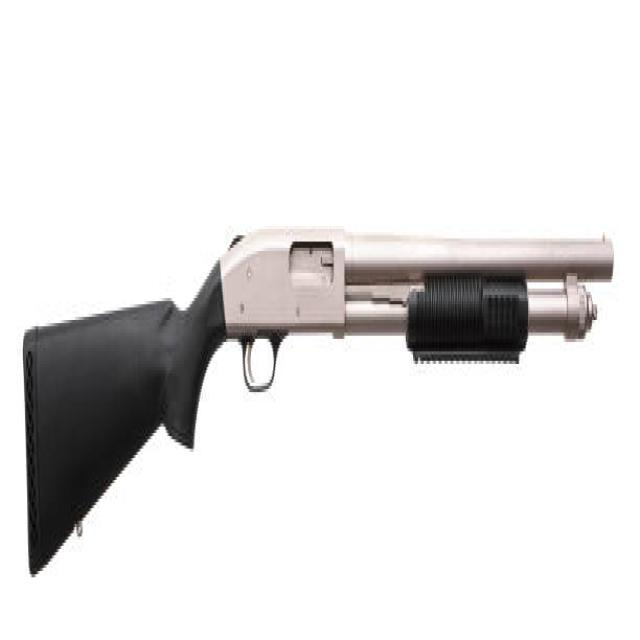rifle: (19, 182, 623, 603)
